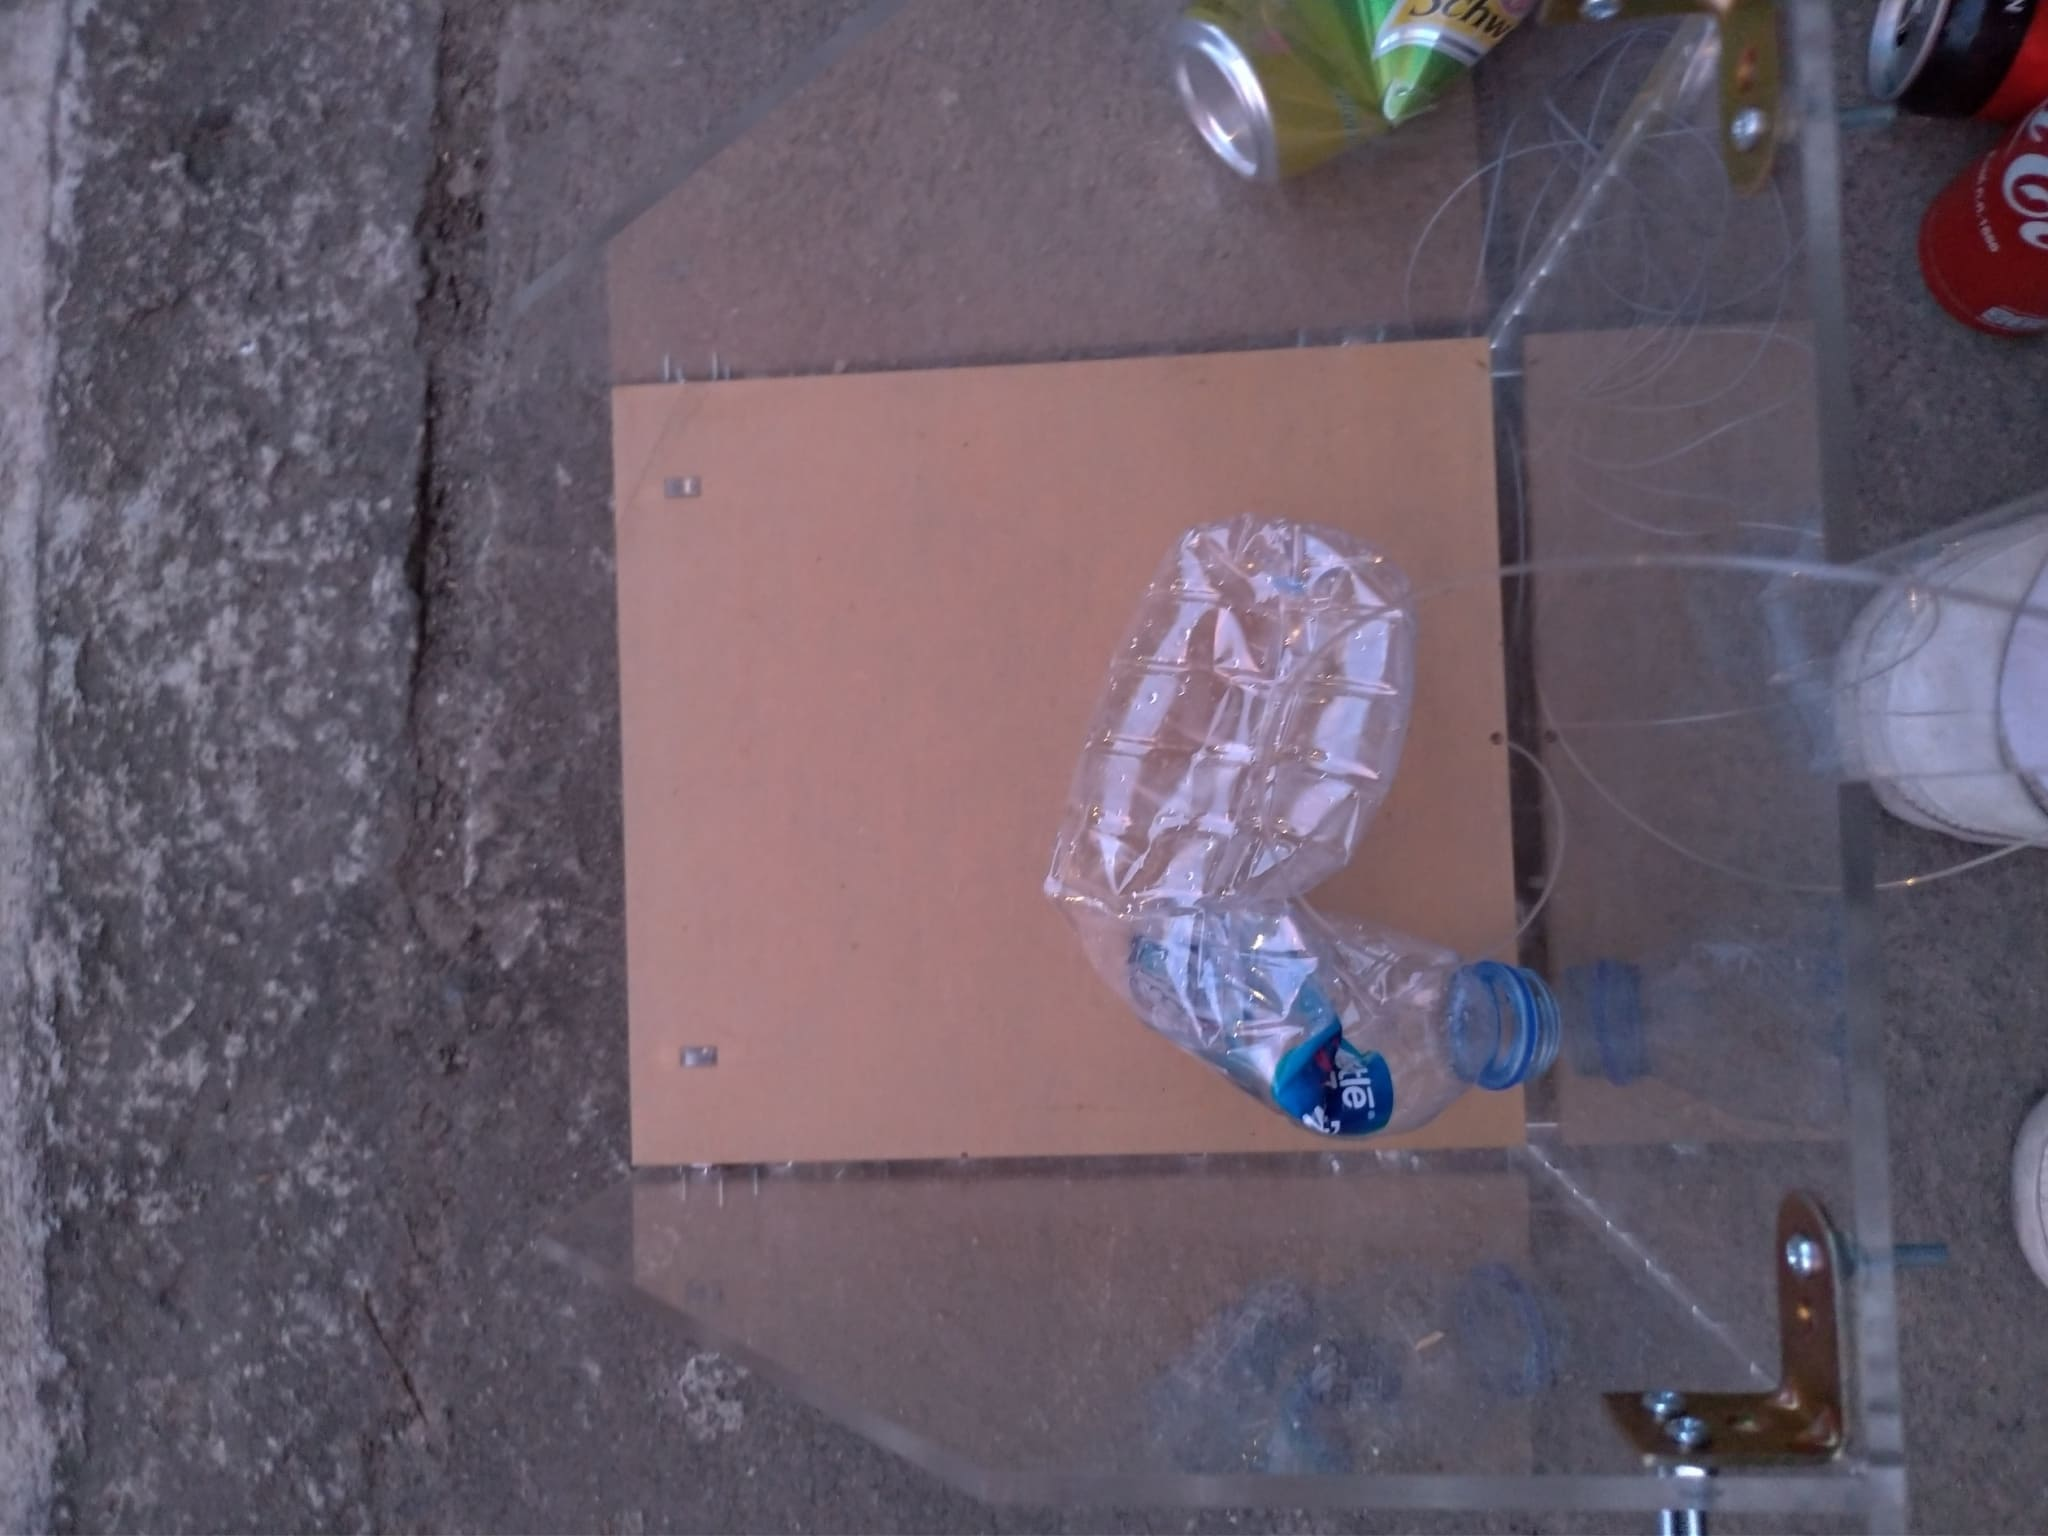AlCan: (1163, 2, 1567, 181), (1913, 18, 2048, 337)
PlasticBottle: (1051, 526, 1563, 1141)
